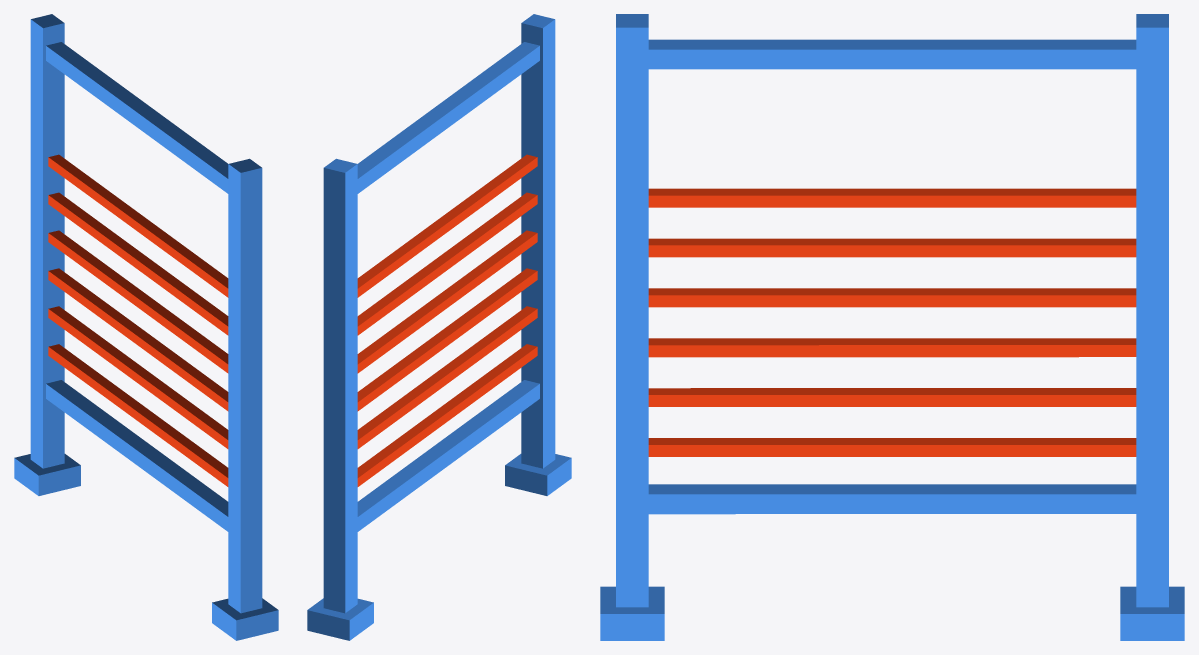
The model's file is Fence.fbx.
3 views of the same model, side by side, from view 1: azimuth 30°, elevation 25°; view 2: azimuth 150°, elevation 25°; view 3: azimuth 270°, elevation 25° (orthographic). The views are drawn at different scales.
Parts seen in each view (by area): view 1: Node 0; view 2: Node 0; view 3: Node 0.
Boxes of the visible parts, box(x1,y1,x2,y2) form: Node 0: box(14, 14, 278, 640); Node 0: box(307, 14, 571, 640); Node 0: box(600, 14, 1184, 640).
Size of the model in its own units: 0.7441 by 0.8521 by 0.0818.
